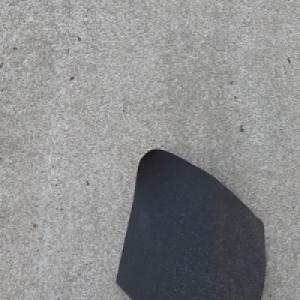PaintChip: (114, 146, 266, 300)
